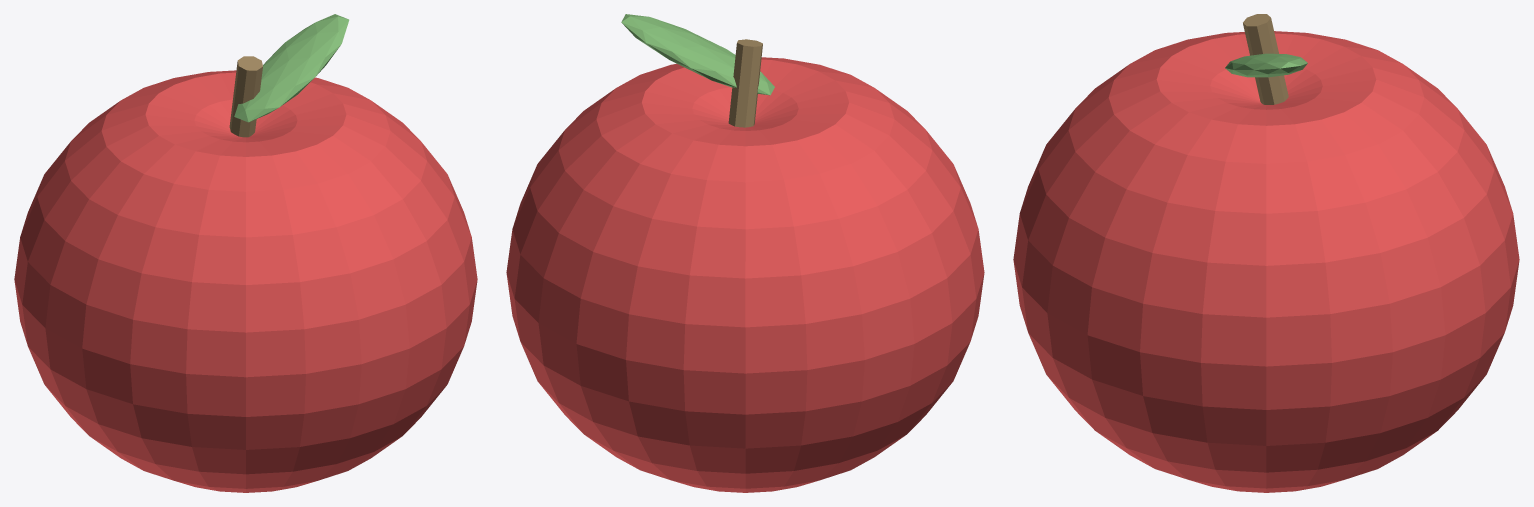
The model's file is HOB_Fruit_Apple.fbx.
The picture shows the model from 3 angles, left to right: view 1: azimuth 30°, elevation 25°; view 2: azimuth 150°, elevation 25°; view 3: azimuth 270°, elevation 25°; orthographic projection. The views are drawn at different scales.
Parts seen in each view (by area): view 1: HOB_Fruit_Apple; view 2: HOB_Fruit_Apple; view 3: HOB_Fruit_Apple.
Part boxes in pixels (box(x1,y1,x2,y2)): HOB_Fruit_Apple: box(14, 14, 477, 492); HOB_Fruit_Apple: box(506, 14, 984, 492); HOB_Fruit_Apple: box(1013, 14, 1519, 492).
Bounding box in the file's own units: 210 × 210 × 210.
